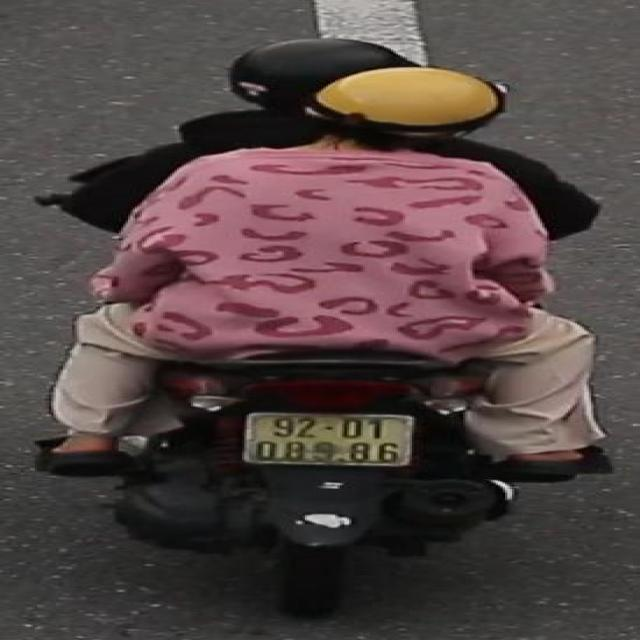LP: (228, 403, 435, 472)
helmet: (292, 65, 532, 170), (209, 31, 433, 110)
